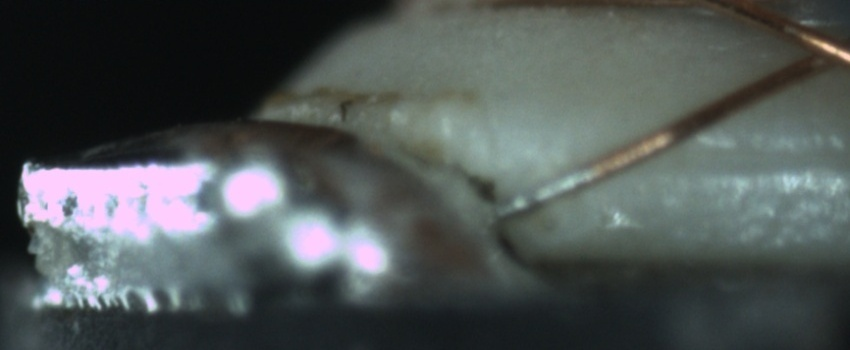CL: (776, 17, 845, 80)
DL: (634, 120, 844, 195)
TS: (489, 161, 591, 221)
